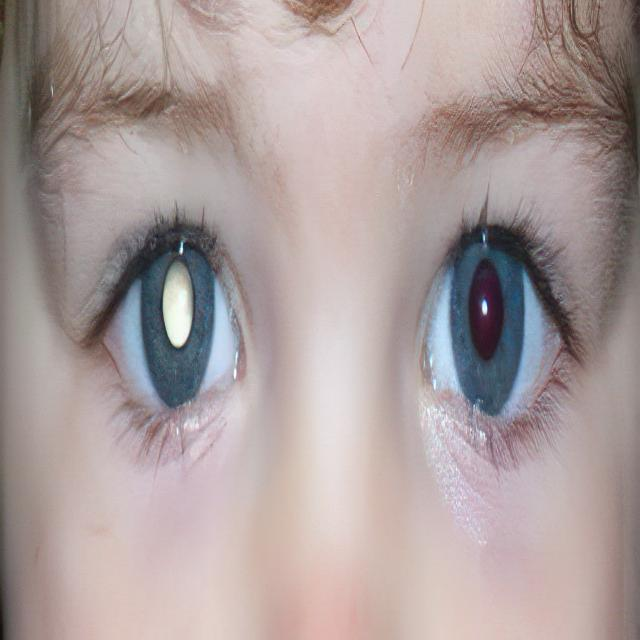reflexo-alterado: (93, 211, 252, 434)
reflexo-normal: (419, 222, 574, 442)
